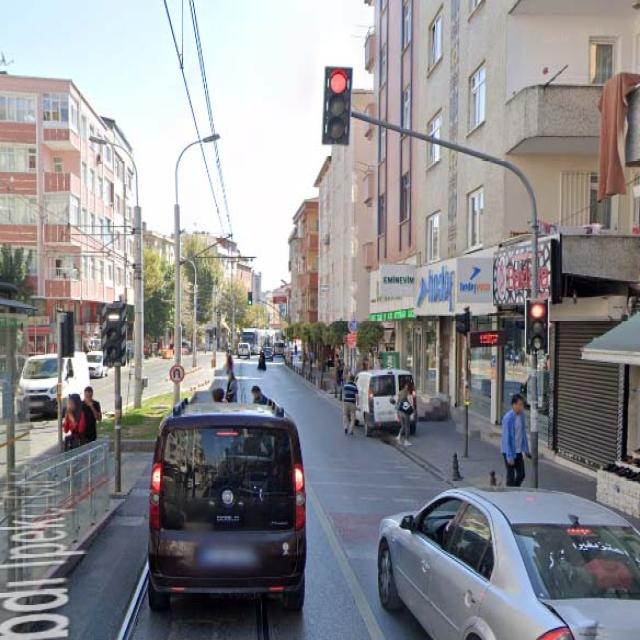kirmizi: (324, 66, 351, 144), (526, 300, 549, 356)
